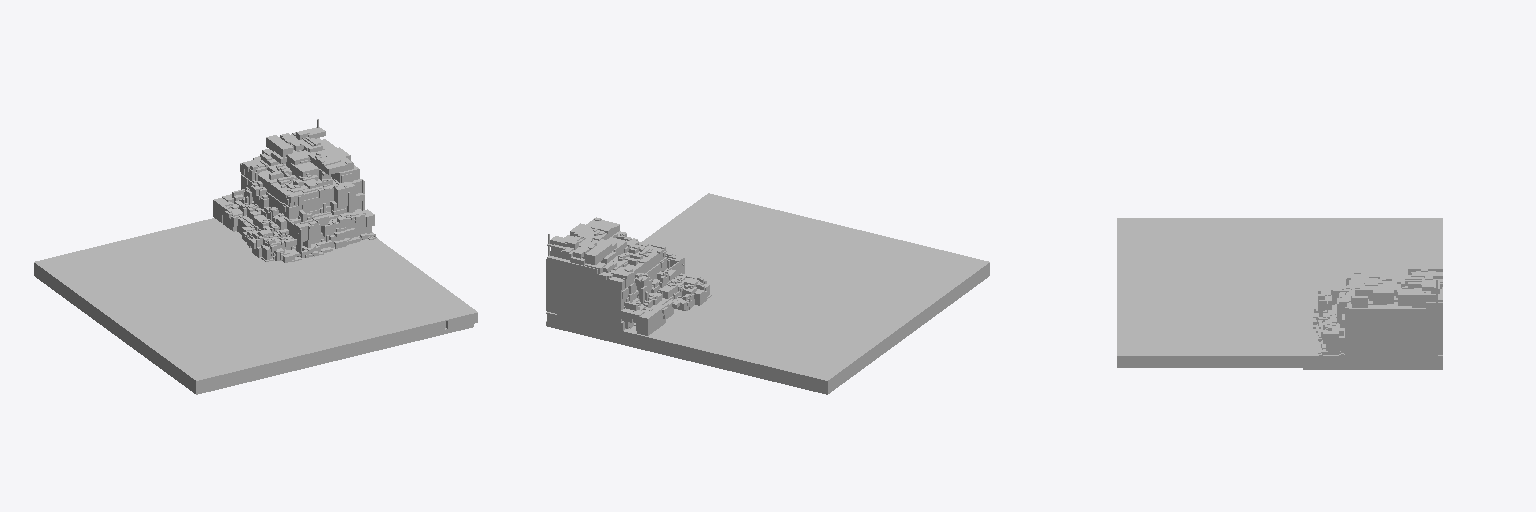
File: lvl1-2.obj
3 renders of one model, left to right at view 1: azimuth 30°, elevation 25°; view 2: azimuth 150°, elevation 25°; view 3: azimuth 270°, elevation 25°, orthographic.
Parts seen in each view (by area): view 1: object 1; view 2: object 1; view 3: object 1.
Boxes of the visible parts, box(x1,y1,x2,y2) form: object 1: box(34, 119, 477, 394); object 1: box(546, 193, 989, 394); object 1: box(1117, 218, 1442, 369).
Size of the model in its own units: 25.6 by 7.8 by 25.6.